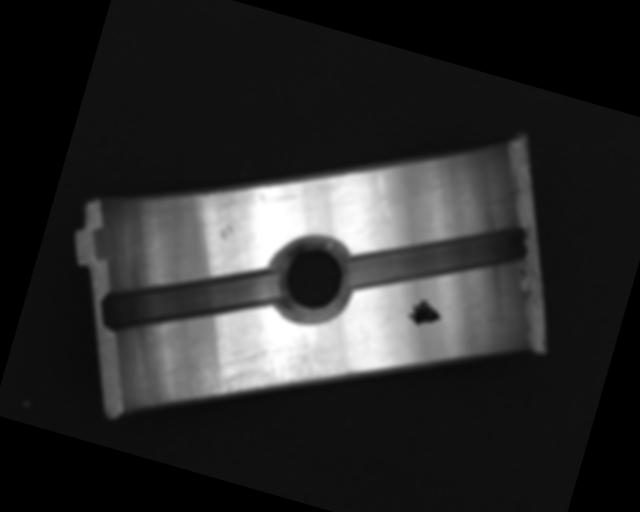blot: (404, 294, 445, 332)
bruise: (216, 220, 238, 243)
gap: (344, 186, 531, 330), (96, 232, 282, 370)
hole: (262, 228, 359, 333)
nick: (364, 173, 409, 231)
scratch: (191, 309, 348, 435)
